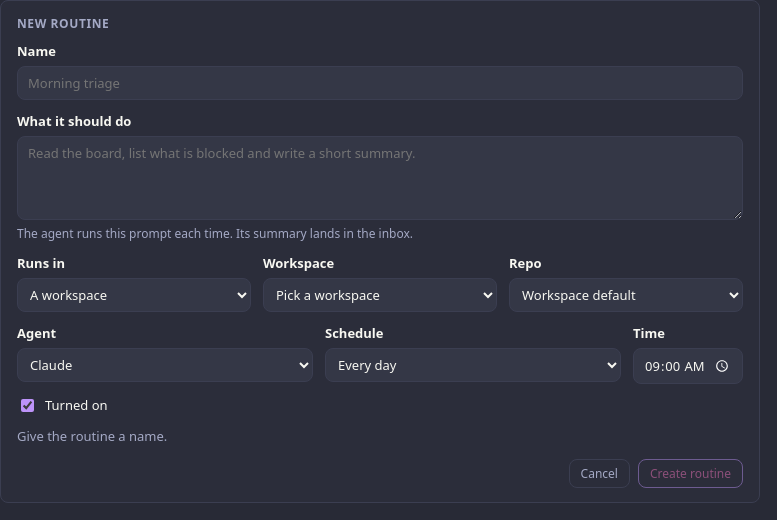
Scenario: with no workspaces the picker offers a placeholder and the form asks for one
The width and height of the screenshot is (777, 520).
Expected: the dropdown labelled "Workspace" shows "Pick a workspace", [263, 278, 497, 312]
Type "Triage" into the field with placeholder "Morning triage" at (380, 83), box [17, 66, 743, 100]
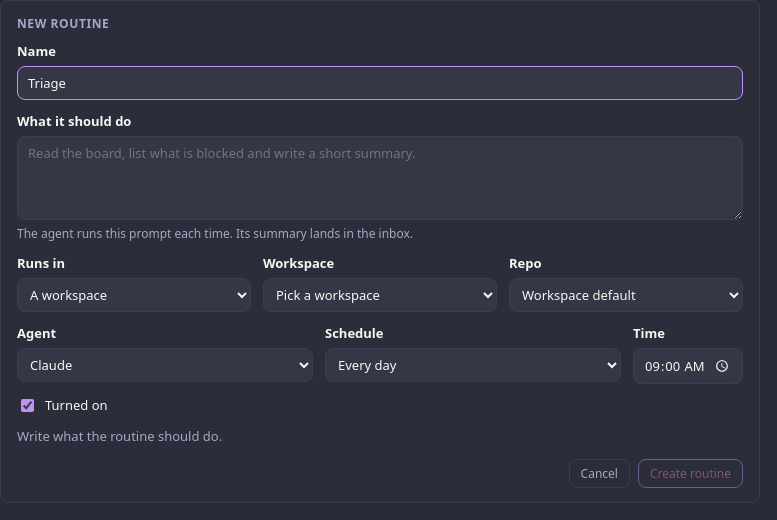
Type "Check the board" into the text box with placeholder "Read the board, list what is blocked and write a short summary." at (380, 178), box [17, 136, 743, 220]
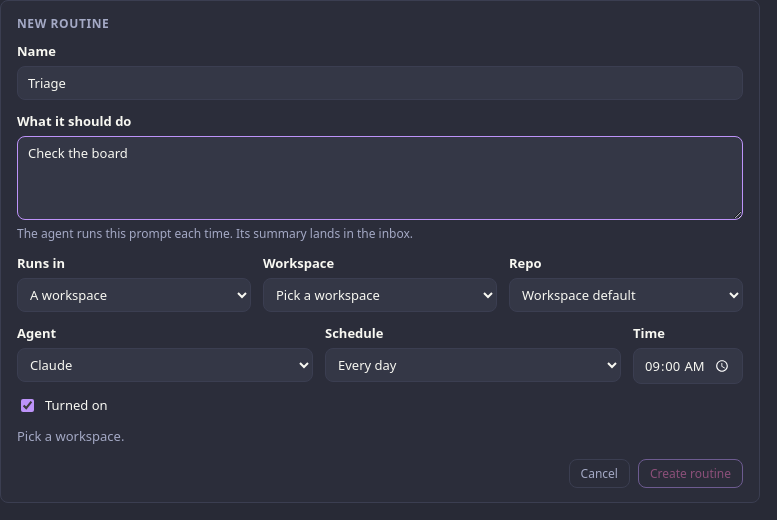
Expected: the button "Create routine" is disabled, [638, 459, 743, 488]
Now the text "Pick a workspace." is shown, box [17, 427, 124, 445]
